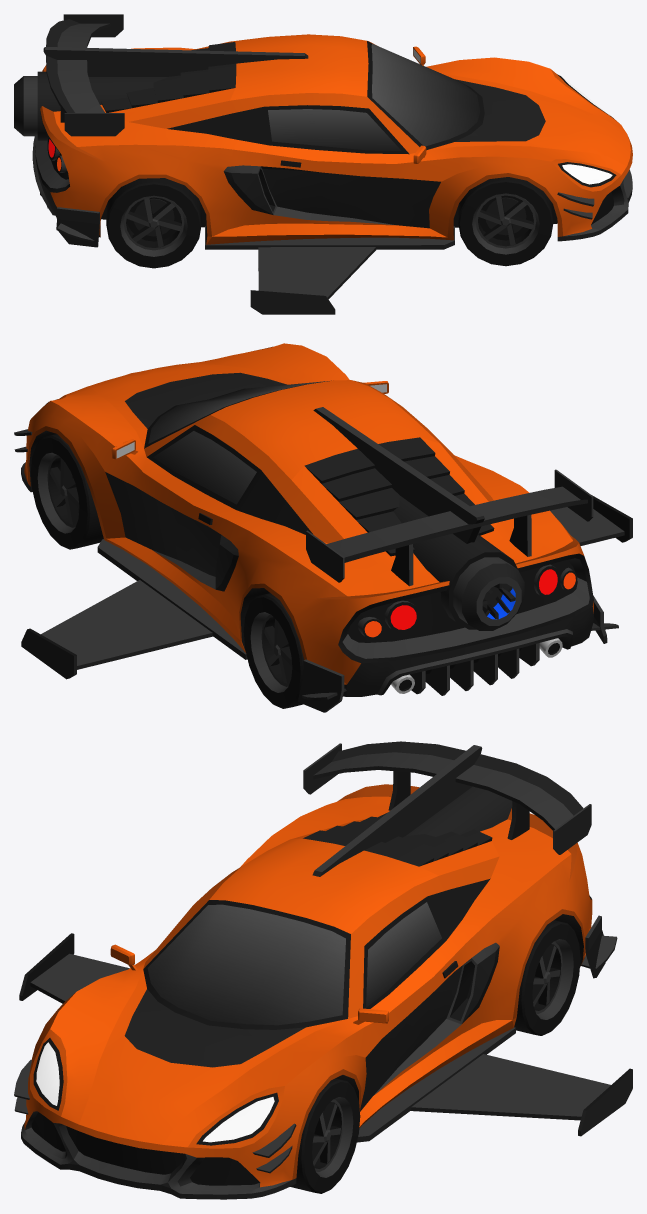
File: RaceCar_010.glb
The picture shows the model from 3 angles, top to bottom: view 1: azimuth 30°, elevation 25°; view 2: azimuth 150°, elevation 25°; view 3: azimuth 270°, elevation 25°; orthographic projection. The views are drawn at different scales.
Parts seen in each view (by area): view 1: RaceCar_010, wheel_3_RaceCar_010_Wheel_4R, wheel_1_RaceCar_010_Wheel_2R; view 2: RaceCar_010, wheel_0_RaceCar_010_Wheel_1R, wheel_2_RaceCar_010_Wheel_3L; view 3: RaceCar_010, wheel_2_RaceCar_010_Wheel_3L, wheel_0_RaceCar_010_Wheel_1R.
Part boxes in pixels (x1,y1,x2,y2): RaceCar_010: (14,14,632,314); wheel_3_RaceCar_010_Wheel_4R: (106,178,201,268); wheel_1_RaceCar_010_Wheel_2R: (458,177,553,266); RaceCar_010: (14,343,632,712); wheel_0_RaceCar_010_Wheel_1R: (30,434,103,549); wheel_2_RaceCar_010_Wheel_3L: (243,593,303,708); RaceCar_010: (14,741,632,1199); wheel_2_RaceCar_010_Wheel_3L: (514,920,580,1035); wheel_0_RaceCar_010_Wheel_1R: (290,1078,360,1193).
Bounding box in the file's own units: 4.01 × 1.23 × 3.39.
Materials: 2 (2 with a texture image).
